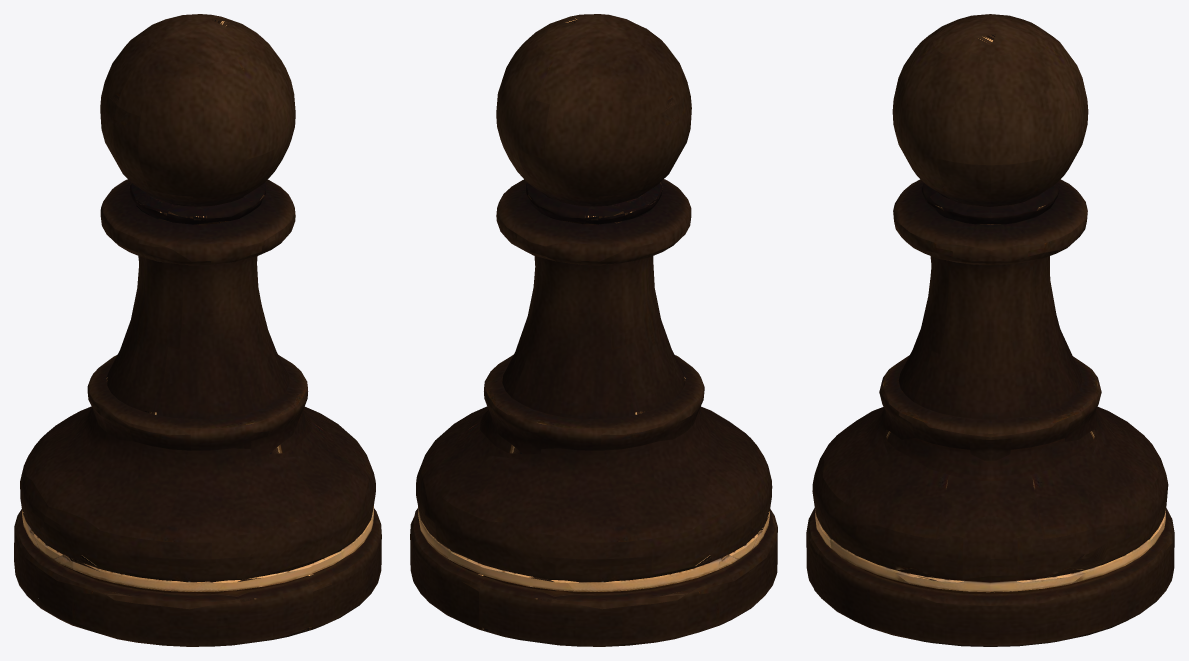
The model's file is 12_pawn_dark.glb.
3 renders of one model, left to right at view 1: azimuth 30°, elevation 25°; view 2: azimuth 150°, elevation 25°; view 3: azimuth 270°, elevation 25°, orthographic.
Parts seen in each view (by area): view 1: world; view 2: world; view 3: world.
Part boxes in pixels (x1,y1,x2,y2): world: (14, 14, 381, 646); world: (410, 14, 777, 646); world: (806, 14, 1174, 646).
Size of the model in its own units: 0.6123 by 1 by 0.6118.
Materials: 1 (1 with a texture image).
